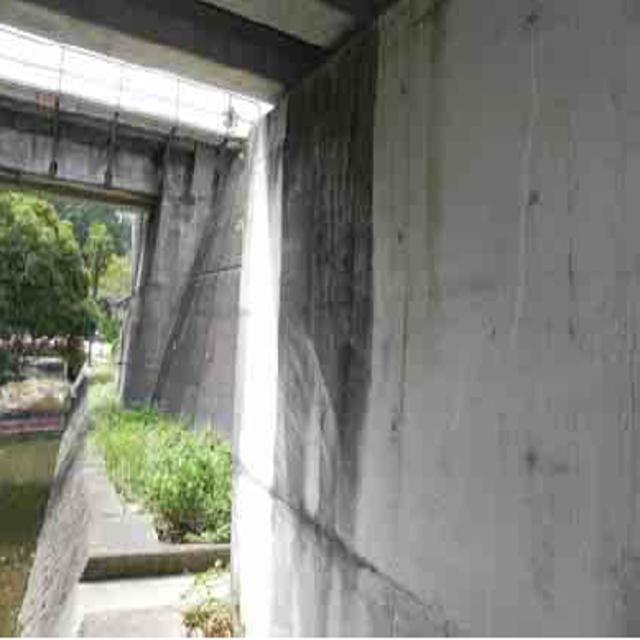leakage: (263, 63, 388, 533)
